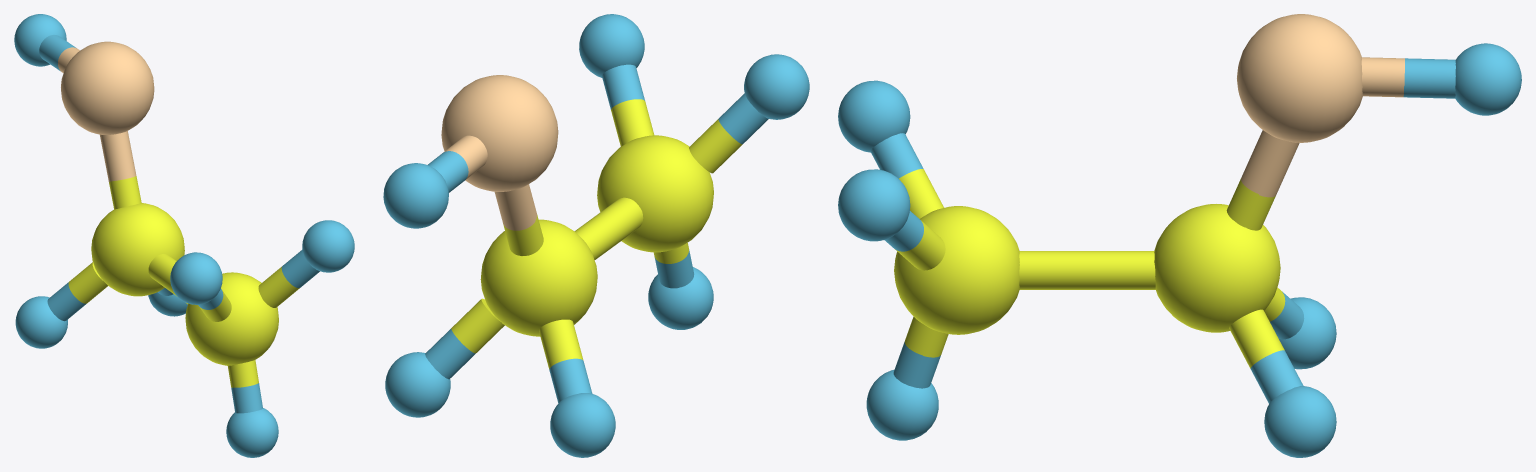
Rendered from alcoholes.gltf.
3 renders of one model, left to right at view 1: azimuth 30°, elevation 25°; view 2: azimuth 150°, elevation 25°; view 3: azimuth 270°, elevation 25°, orthographic. The views are drawn at different scales.
Parts seen in each view (by area): view 1: Sphere.046, Sphere.048, Sphere.050, Sphere.052, Sphere.049, Sphere.045, Sphere.047, Sphere.044, Cylinder.078, Cylinder.082, Cylinder.087, Cylinder.077 (+8 smaller); view 2: Sphere.046, Sphere.050, Sphere.048, Sphere.044, Sphere.047, Sphere.052, Sphere.051, Sphere.049, Sphere.045, Cylinder.091, Cylinder.084, Cylinder.090 (+12 smaller); view 3: Sphere.046, Sphere.048, Sphere.050, Cylinder.091, Sphere.049, Sphere.051, Sphere.044, Sphere.052, Sphere.045, Sphere.047, Cylinder.078, Cylinder.086 (+11 smaller).
Part boxes in pixels (<box>): Sphere.046: <box>61,41,154,134</box>; Sphere.048: <box>91,203,184,296</box>; Sphere.050: <box>185,272,278,365</box>; Sphere.052: <box>170,252,222,304</box>; Sphere.049: <box>302,220,354,272</box>; Sphere.045: <box>226,408,278,457</box>; Sphere.047: <box>15,296,67,348</box>; Sphere.044: <box>14,14,66,66</box>; Cylinder.078: <box>100,131,136,181</box>; Cylinder.082: <box>68,262,107,303</box>; Cylinder.087: <box>258,266,299,307</box>; Cylinder.077: <box>109,176,141,209</box>; Sphere.046: <box>441,75,558,191</box>; Sphere.050: <box>597,135,713,252</box>; Sphere.048: <box>480,219,597,336</box>; Sphere.044: <box>383,163,448,228</box>; Sphere.047: <box>550,393,615,457</box>; Sphere.052: <box>744,54,809,119</box>; Sphere.051: <box>385,352,450,417</box>; Sphere.049: <box>579,14,644,77</box>; Sphere.045: <box>648,267,713,329</box>; Cylinder.091: <box>574,197,643,259</box>; Cylinder.084: <box>451,298,504,353</box>; Cylinder.090: <box>689,119,742,173</box>; Sphere.046: <box>1237,14,1363,142</box>; Sphere.048: <box>1154,204,1280,332</box>; Sphere.050: <box>894,206,1019,334</box>; Cylinder.091: <box>1019,251,1155,289</box>; Sphere.049: <box>838,169,910,241</box>; Sphere.051: <box>1264,386,1336,457</box>; Sphere.044: <box>1455,43,1521,115</box>; Sphere.052: <box>838,80,910,152</box>; Sphere.045: <box>866,370,938,440</box>; Sphere.047: <box>1279,297,1336,369</box>; Cylinder.078: <box>1241,130,1299,197</box>; Cylinder.086: <box>1403,58,1455,98</box>.
Size of the model in its own units: 0.000688 by 0.00112 by 0.00167.
